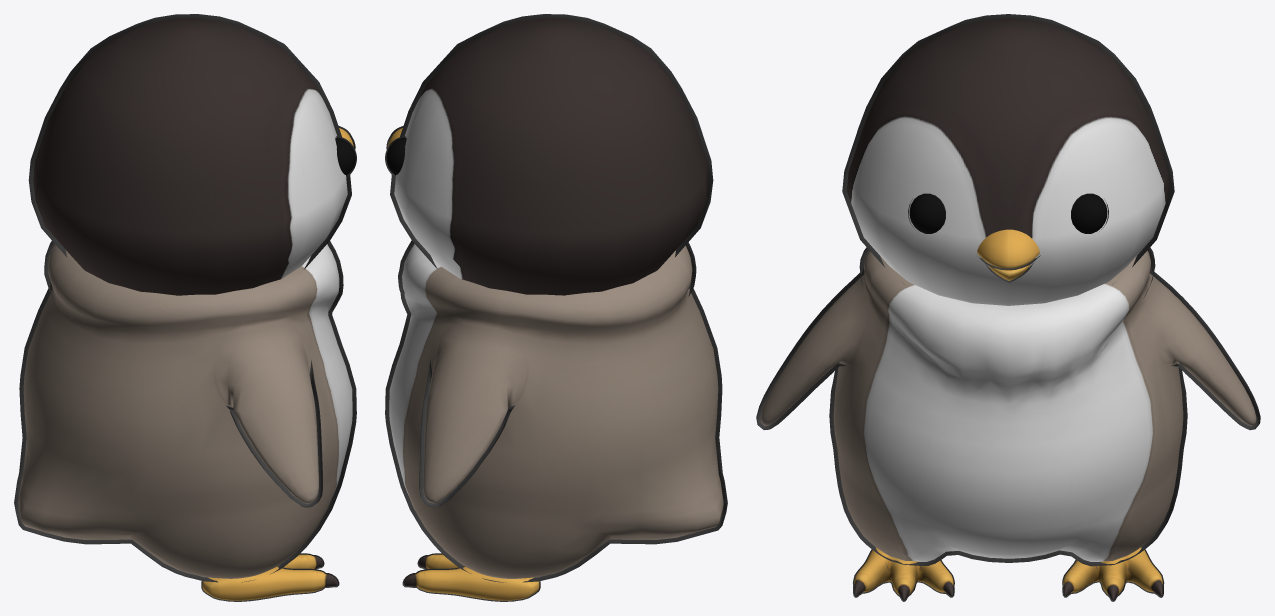
Rendered from penguin_2.0.glb.
3 views of the same model, side by side, from view 1: azimuth 30°, elevation 25°; view 2: azimuth 150°, elevation 25°; view 3: azimuth 270°, elevation 25° (orthographic). The views are drawn at different scales.
Visible parts, largest first — view 1: Penguin2_lowpoly, Penguin2outline_lowpoly; view 2: Penguin2_lowpoly, Penguin2outline_lowpoly; view 3: Penguin2_lowpoly, Penguin2outline_lowpoly.
Boxes of the visible parts, box(x1,y1,x2,y2) form: Penguin2_lowpoly: box(18, 18, 355, 600); Penguin2outline_lowpoly: box(14, 14, 356, 601); Penguin2_lowpoly: box(386, 18, 723, 600); Penguin2outline_lowpoly: box(385, 14, 727, 601); Penguin2_lowpoly: box(760, 18, 1256, 600); Penguin2outline_lowpoly: box(756, 14, 1260, 601).
Size of the model in its own units: 8.71 by 13.11 by 11.1.
Materials: 2 (1 with a texture image).
